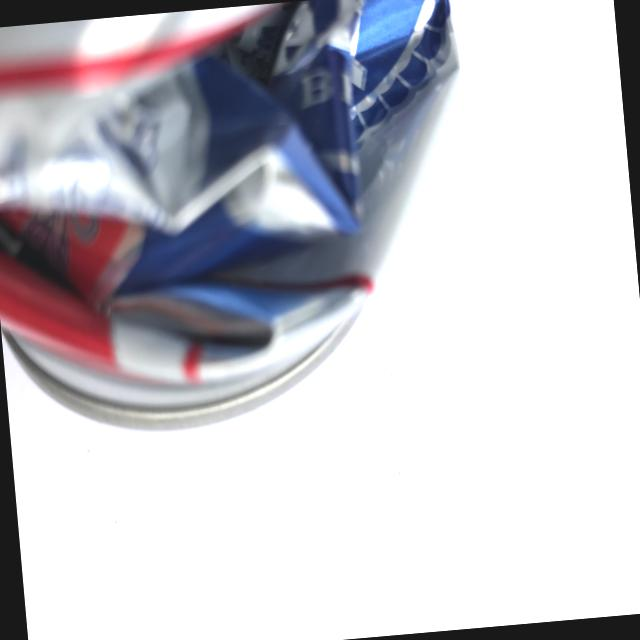Metal: (0, 0, 511, 481)
